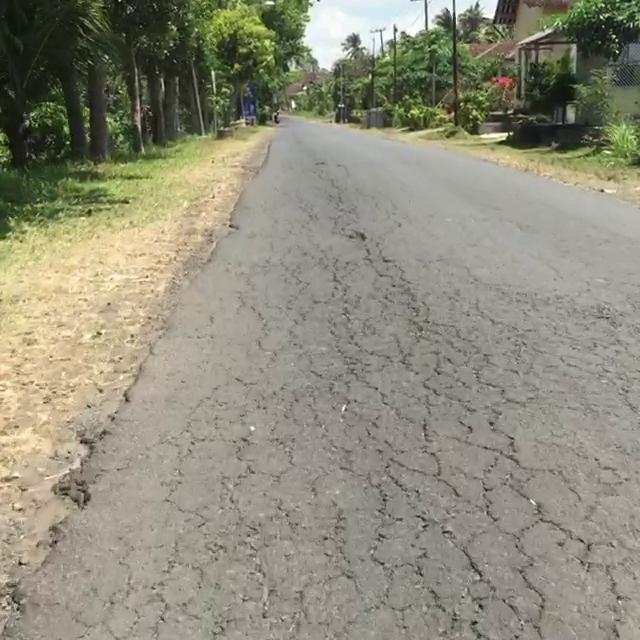retak_kulit_buaya: (212, 274, 584, 640)
